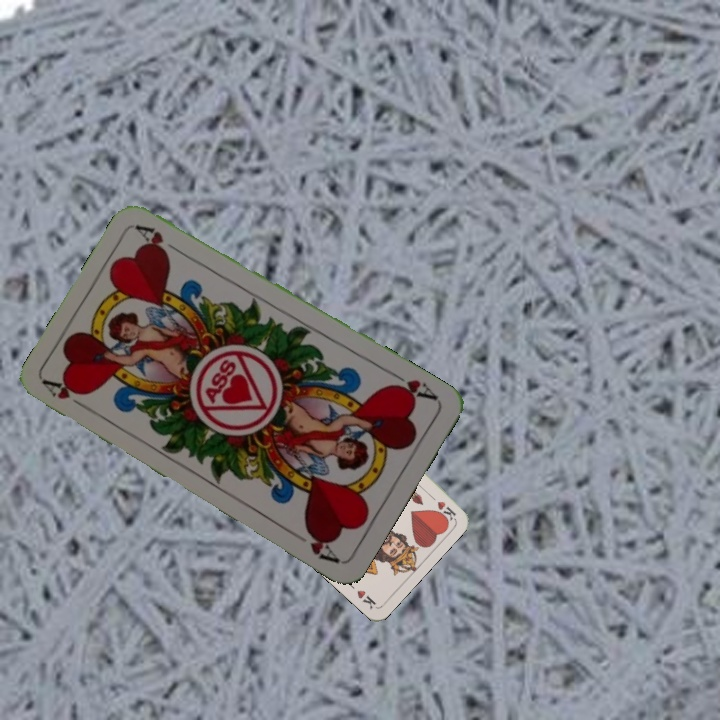HA: (40, 376, 94, 415), (385, 367, 441, 404)
HK: (423, 489, 458, 522)
